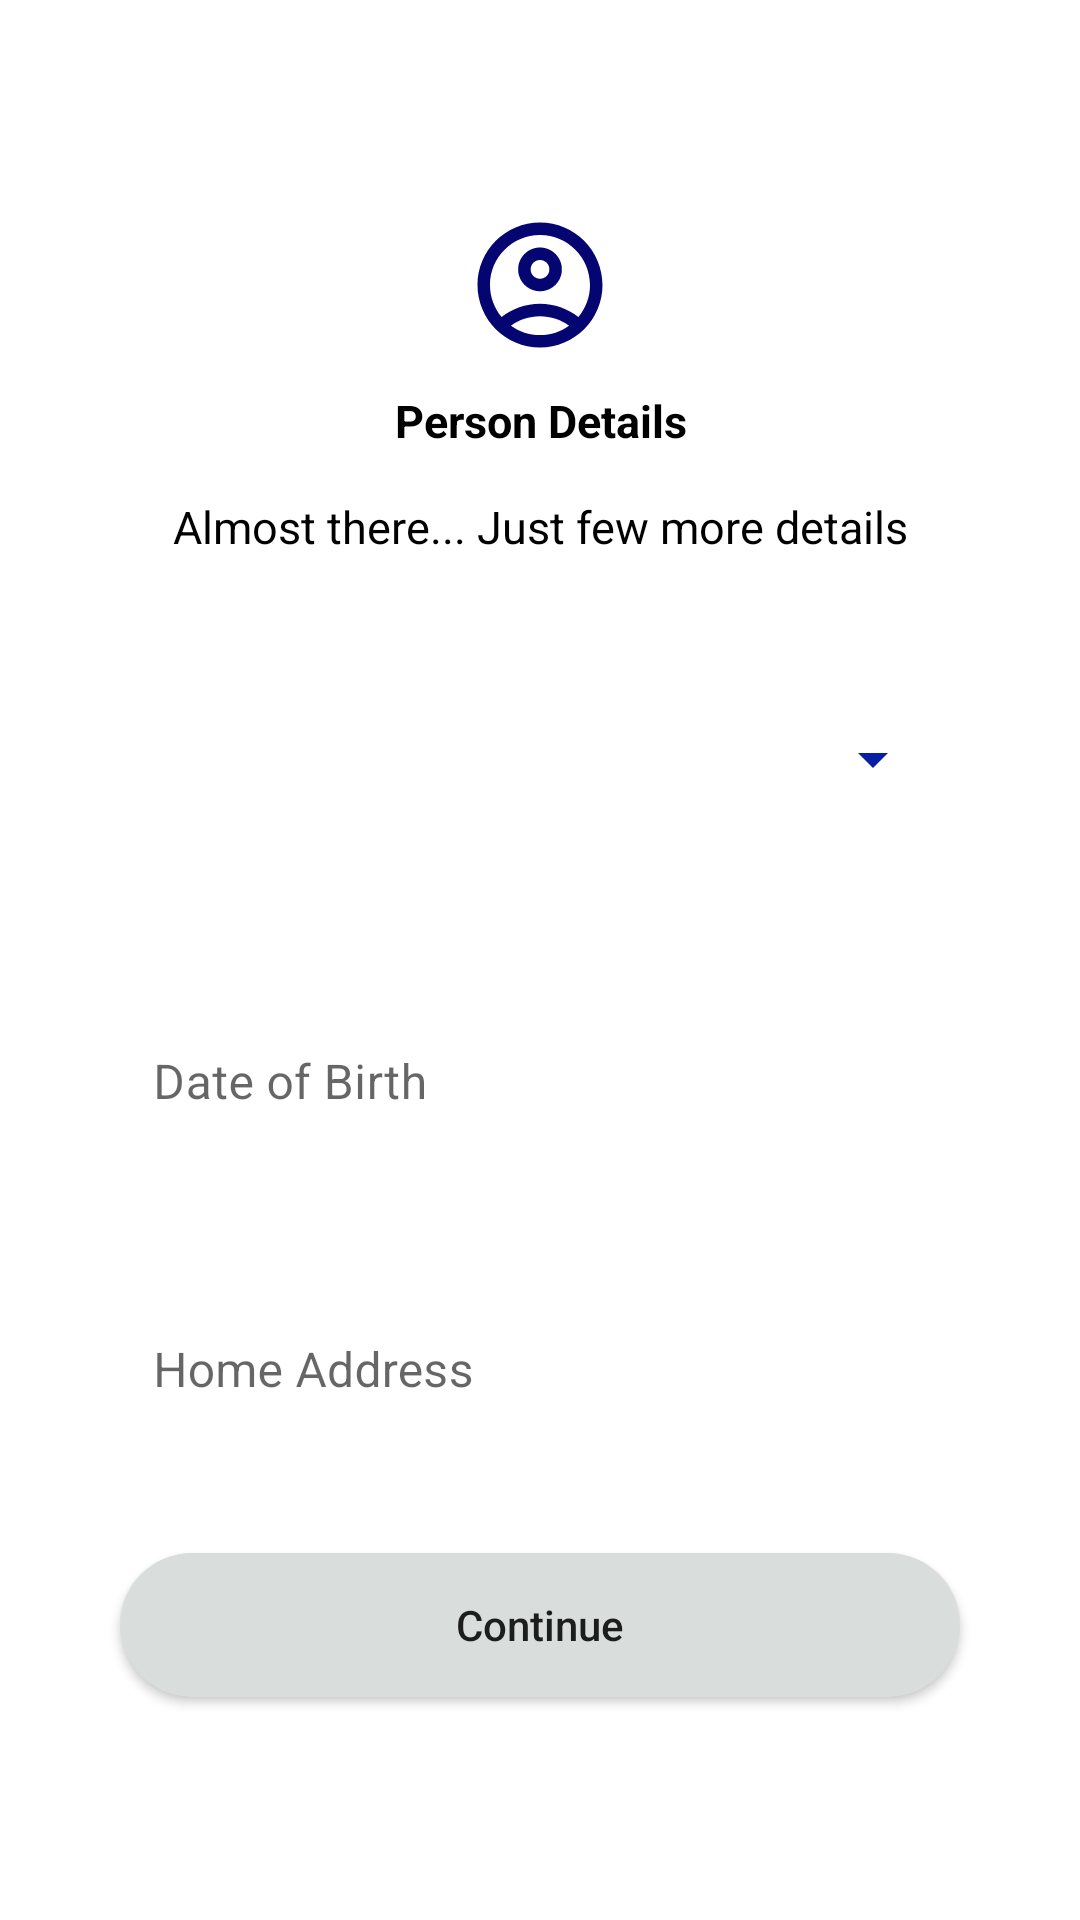

Where to tap for icons on this 1080x1920 app screen, as [x,y]:
account circle: [540,285]
